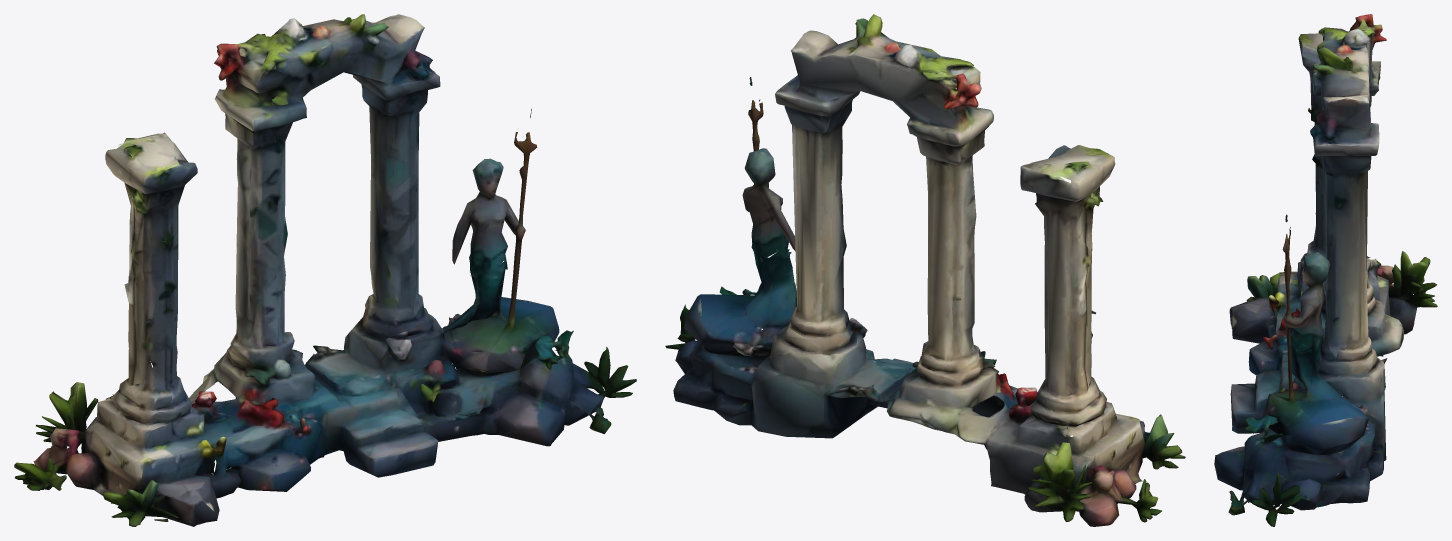
The model's file is searuin.glb.
3 renders of one model, left to right at view 1: azimuth 30°, elevation 25°; view 2: azimuth 150°, elevation 25°; view 3: azimuth 270°, elevation 25°, orthographic. The views are drawn at different scales.
Visible parts, largest first — view 1: tripo_node_39ca9a24; view 2: tripo_node_39ca9a24; view 3: tripo_node_39ca9a24.
Boxes of the visible parts, bbox=[...] form: tripo_node_39ca9a24: bbox=[14, 14, 636, 526]; tripo_node_39ca9a24: bbox=[665, 14, 1185, 526]; tripo_node_39ca9a24: bbox=[1214, 14, 1437, 526].
Bounding box in the file's own units: 99.28 × 72.84 × 38.28.
1 material, 1 textured.
